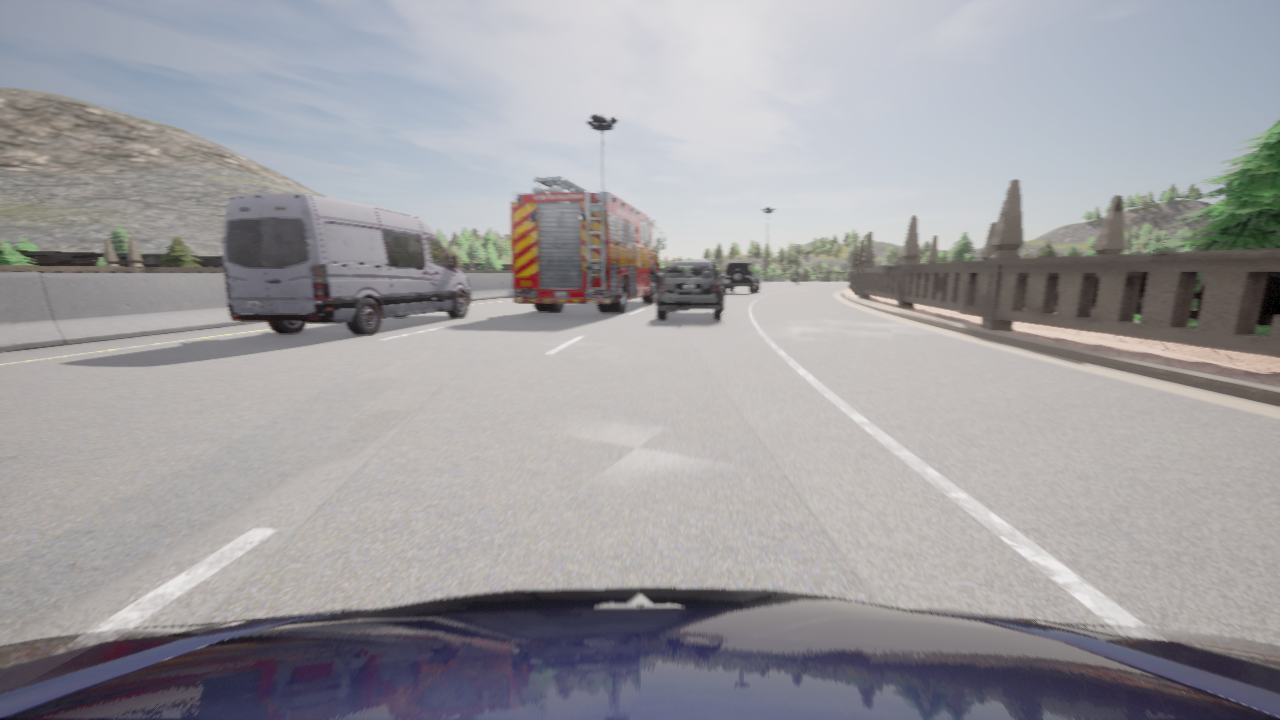cyclist: (0, 588, 1279, 719), (221, 194, 470, 335), (511, 175, 664, 313), (656, 260, 725, 320), (721, 261, 760, 294), (715, 265, 721, 280)
